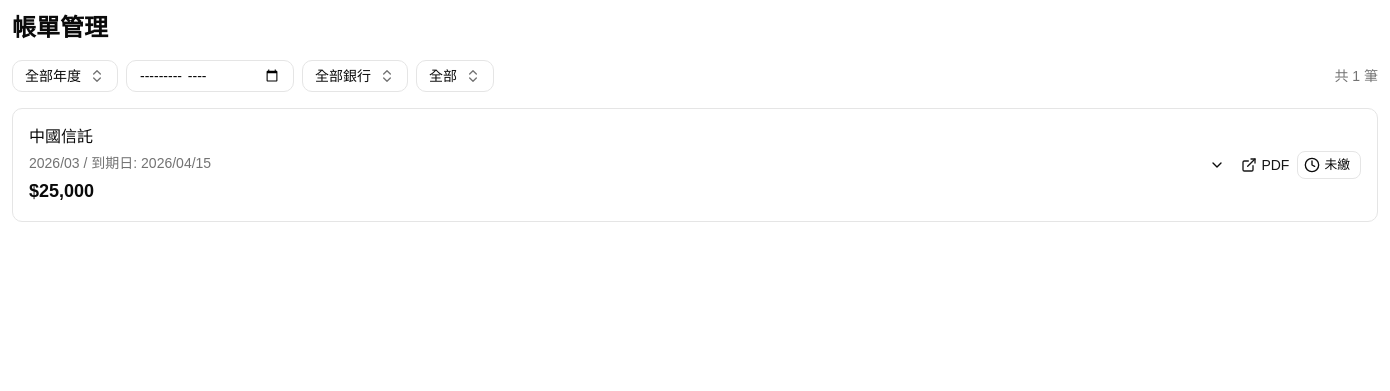
Test: BillsPage › collapses bill row on second chevron click
Check: the text "中國信託" is shown, box [29,128,93,145]
Click the button named "展開 中國信託 帳單明細".
click(1217, 165)  # box [1201,149,1233,181]
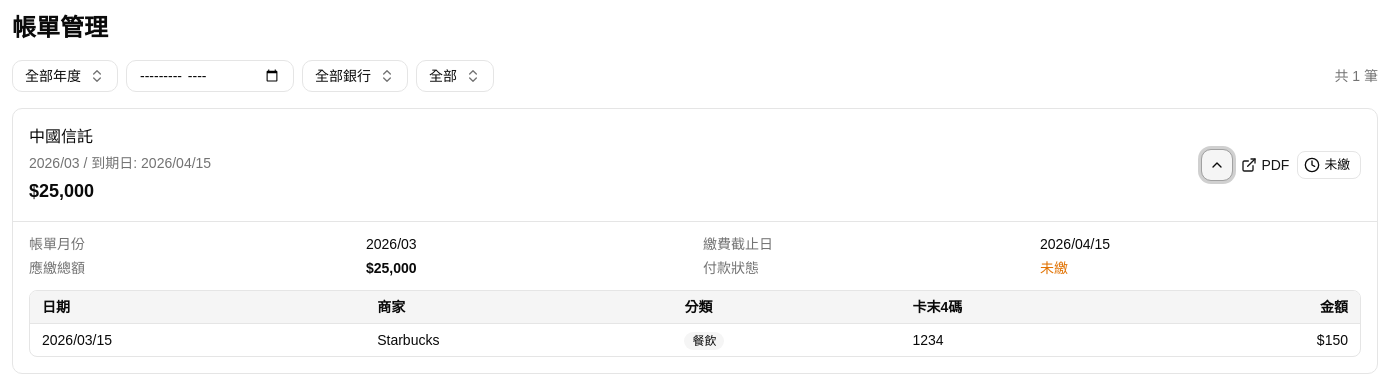
Check: the text "Starbucks" is shown, box [365,324,672,356]
Click the button named "收起 中國信託 帳單明細".
click(1217, 165)  # box [1201,149,1233,181]
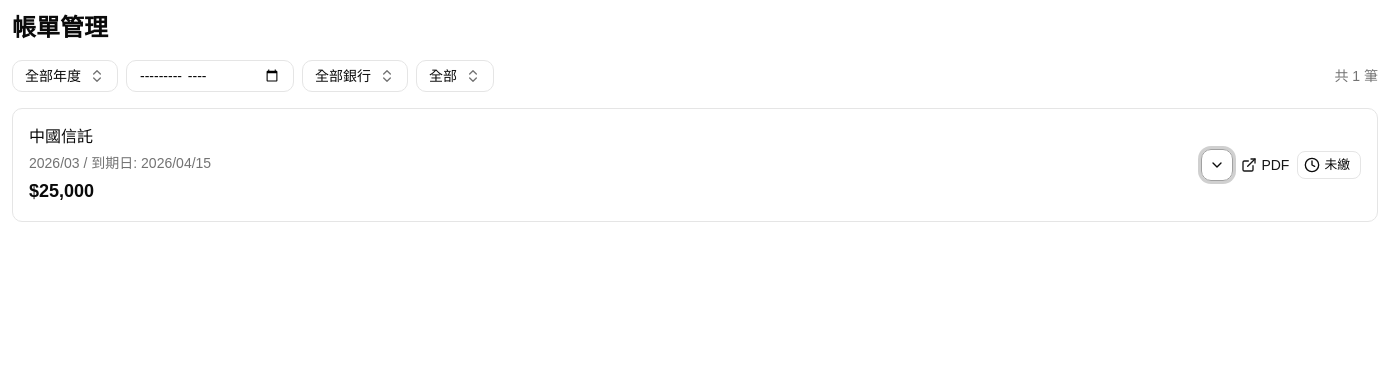
Check: the button named "展開 中國信託 帳單明細" is shown, box [1201,149,1233,181]
